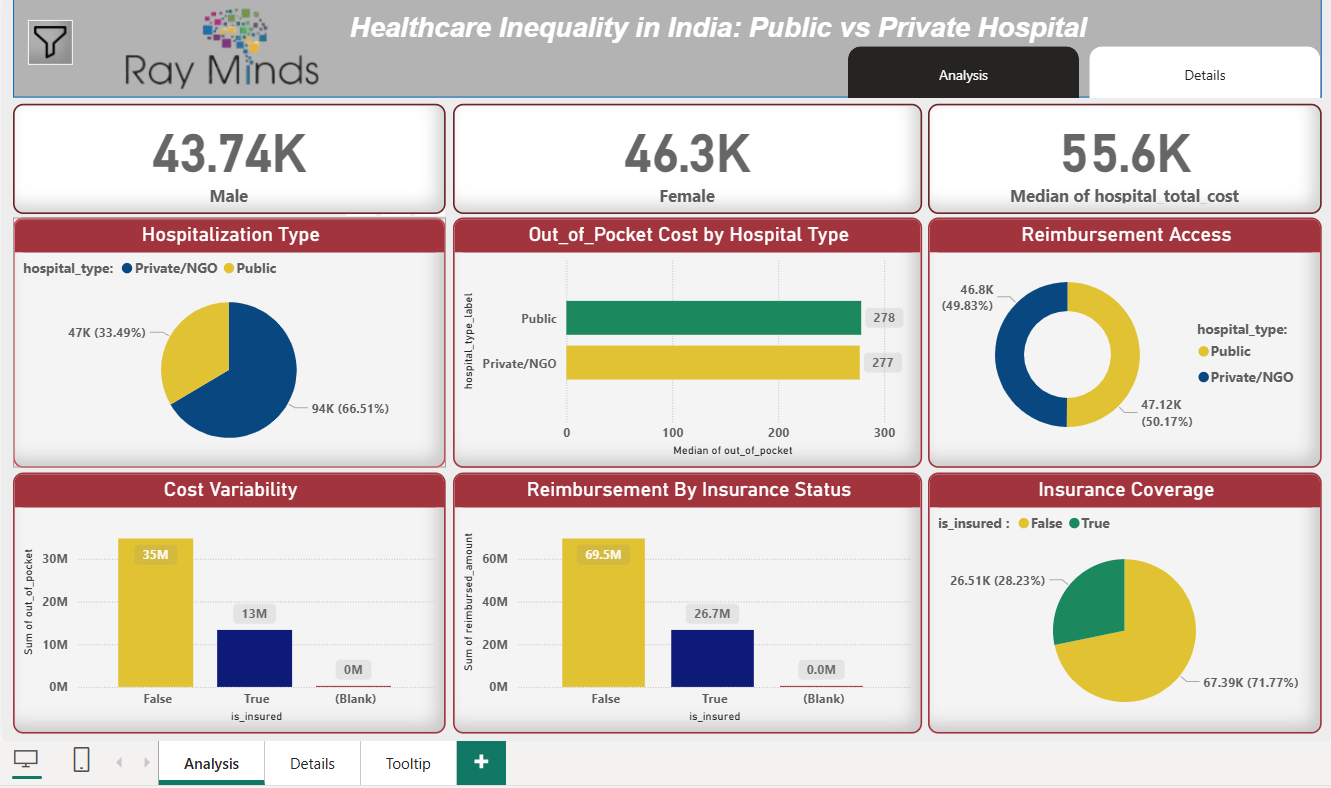

The dashboard page shown, as its layout file describes it:
{"tool":"powerbi","page":{"name":"Analysis","canvas":[1280,720],"ordinal":0},"visuals":[{"type":"pieChart","title":"Hospitalization Type","fields":{"Y":["Sum(Table1.Hospital_type)"],"Category":["Table1.hospital_type_label"]},"box":[9.7,214.5,417.4,241.3],"z":0},{"type":"card","fields":{"Values":["Median(Table1.hospital_total_cost)"]},"box":[892.8,105.2,380,106.2],"z":1000},{"type":"barChart","title":"Out_of_Pocket Cost by Hospital Type","fields":{"Category":["Table1.hospital_type_label"],"Y":["Median(Table1.out_of_pocket)"]},"box":[434.3,214.5,452.4,241.3],"z":2000},{"type":"donutChart","title":"Reimbursement Access","fields":{"Category":["Table1.hospital_type_label"],"Y":["CountNonNull(Table1.is_reimbursed)"]},"box":[892.8,214.5,380,241.3],"z":3000},{"type":"clusteredColumnChart","title":"Reimbursement By Insurance Status","fields":{"Category":["Table1.is_insured"],"Y":["Sum(Table1.reimbursed_amount)"]},"box":[434.3,460.9,452.4,252.1],"z":4000},{"type":"columnChart","title":"Cost Variability","fields":{"Y":["Sum(Table1.out_of_pocket)"],"Category":["Table1.is_insured"]},"box":[9.7,460.9,417.4,252.1],"z":5000},{"type":"pieChart","title":"Insurance Coverage","fields":{"Category":["Table1.is_insured"],"Y":["CountNonNull(Table1.is_insured)"]},"box":[892.8,460.9,380,252.1],"z":6000},{"type":"card","fields":{"Values":["Table1.total_Male_Patient"]},"box":[9.7,105.2,417.4,106.2],"z":7000},{"type":"card","fields":{"Values":["Table1.Total_Female_Patient"]},"box":[434.3,105.2,452.4,106.2],"z":8000},{"type":"shape","box":[9.7,0,1263.1,99],"z":9000},{"type":"actionButton","box":[24.5,24.5,43.3,43.3],"z":10000},{"type":"image","box":[89.5,0,256.8,105.3],"z":12000},{"type":"textbox","box":[328.9,11.5,725.7,63.5],"z":13000},{"type":"pageNavigator","box":[815.2,49.1,457.4,50.5],"z":14000}]}

Visuals, with their boxes in screenshot pixels (x1, y1, x2, y2):
"Hospitalization Type" pieChart: (x1=17, y1=216, x2=445, y2=464)
card - Median(Table1.hospital_total_cost): (x1=922, y1=104, x2=1312, y2=213)
"Out_of_Pocket Cost by Hospital Type" barChart: (x1=452, y1=216, x2=916, y2=464)
"Reimbursement Access" donutChart: (x1=922, y1=216, x2=1312, y2=464)
"Reimbursement By Insurance Status" clusteredColumnChart: (x1=452, y1=469, x2=916, y2=728)
"Cost Variability" columnChart: (x1=17, y1=469, x2=445, y2=728)
"Insurance Coverage" pieChart: (x1=922, y1=469, x2=1312, y2=728)
card - Table1.total_Male_Patient: (x1=17, y1=104, x2=445, y2=213)
card - Table1.Total_Female_Patient: (x1=452, y1=104, x2=916, y2=213)
shape: (x1=17, y1=0, x2=1312, y2=98)
actionButton: (x1=32, y1=22, x2=76, y2=66)
image: (x1=99, y1=0, x2=362, y2=105)
textbox: (x1=344, y1=8, x2=1088, y2=73)
pageNavigator: (x1=843, y1=47, x2=1312, y2=99)
